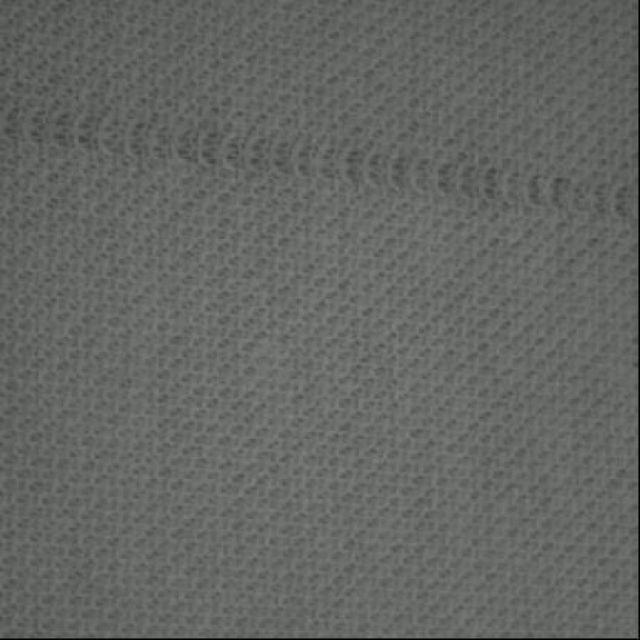Line: (4, 102, 634, 221)
